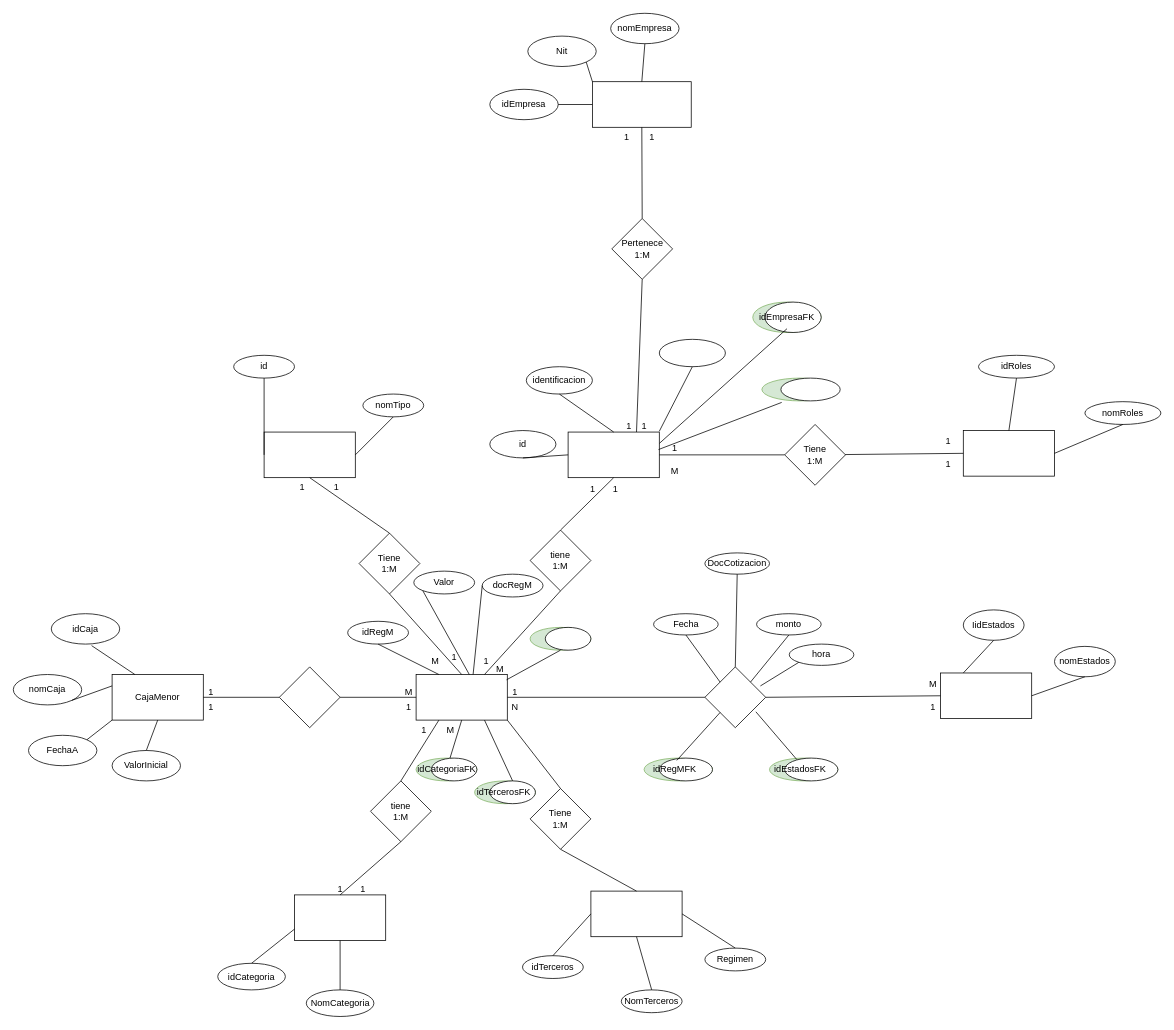
Image size: 1174x1030. Some labels were removed from this diagram. The shapes that lost their labels are listed below. From the top down, each one's centre as x and y in pixels, then its label:
At point (641, 104): "Empresa".
At point (692, 353): "nomUsuario".
At point (810, 389): "idRolesFK".
At point (309, 454): "TipoRegistro".
At point (613, 454): "Usuario".
At point (1008, 453): "Roles".
At point (568, 638): "idUsuarioFK".
At point (309, 697): "Tiene".
At point (461, 697): "RegistrodeSolicitudes".
At point (735, 697): "Tiene N:M".
At point (986, 695): "Estado".
At point (340, 917): "Categoria".
At point (636, 913): "Terceros".
